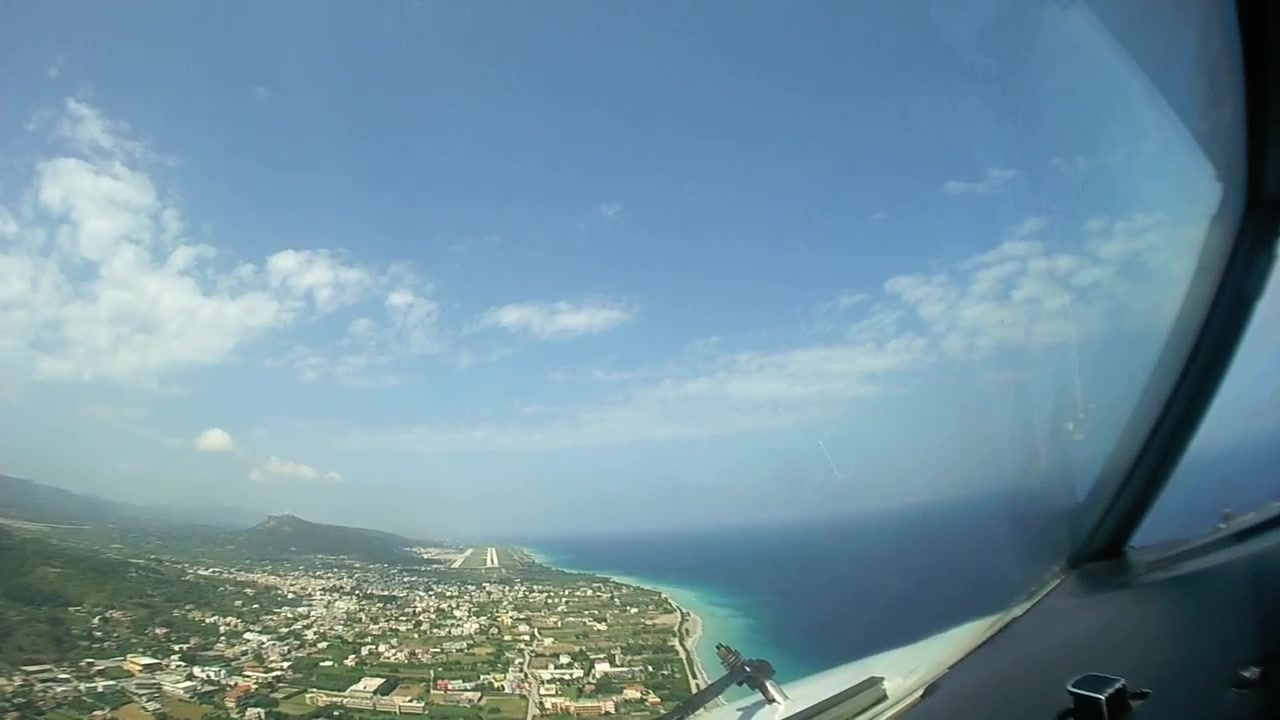runway: (484, 547, 501, 569)
